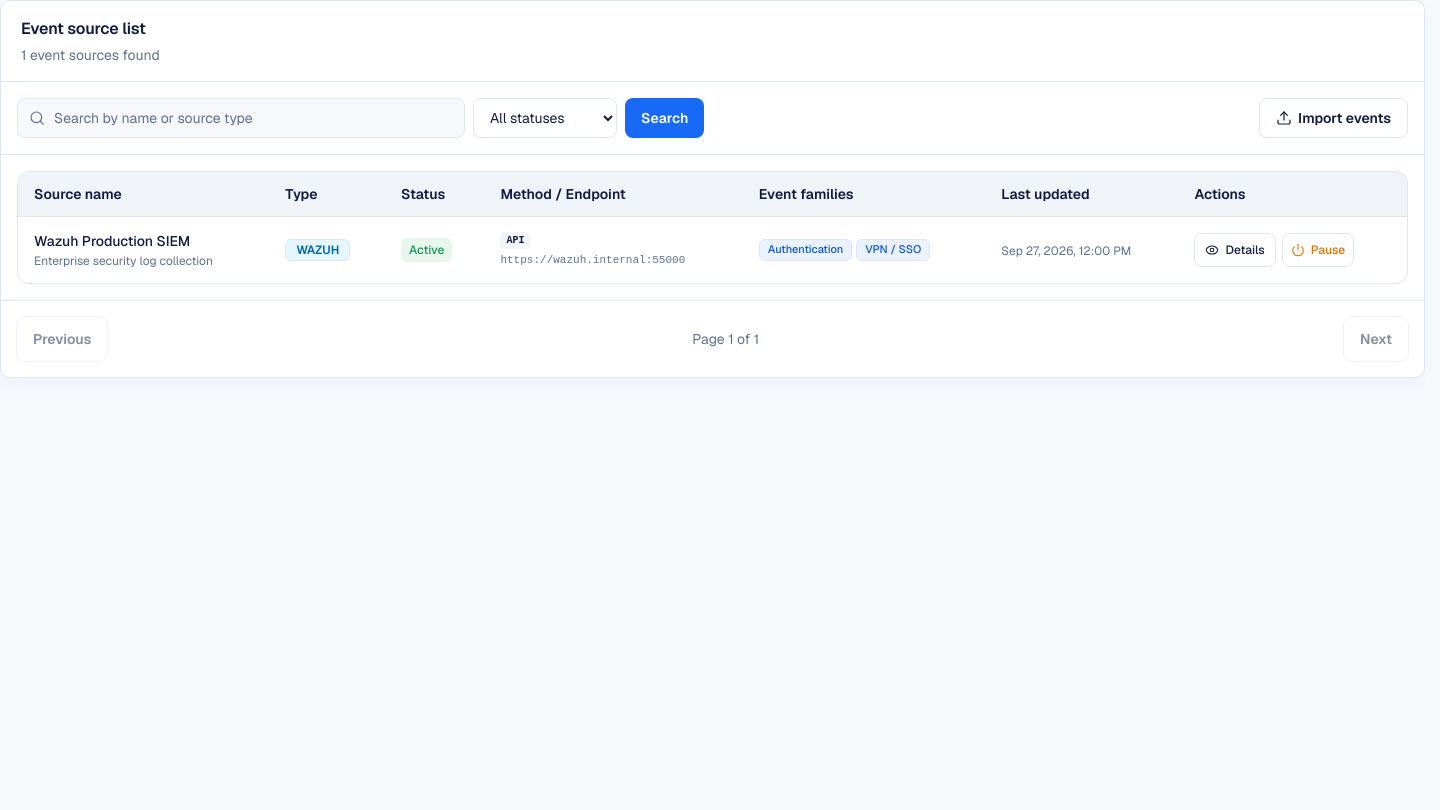
Test: EventSourcesList › opens EventSourceDetailDialog when clicking Details button
Click the button "Details".
click(1235, 250)  # box [1194, 233, 1276, 267]
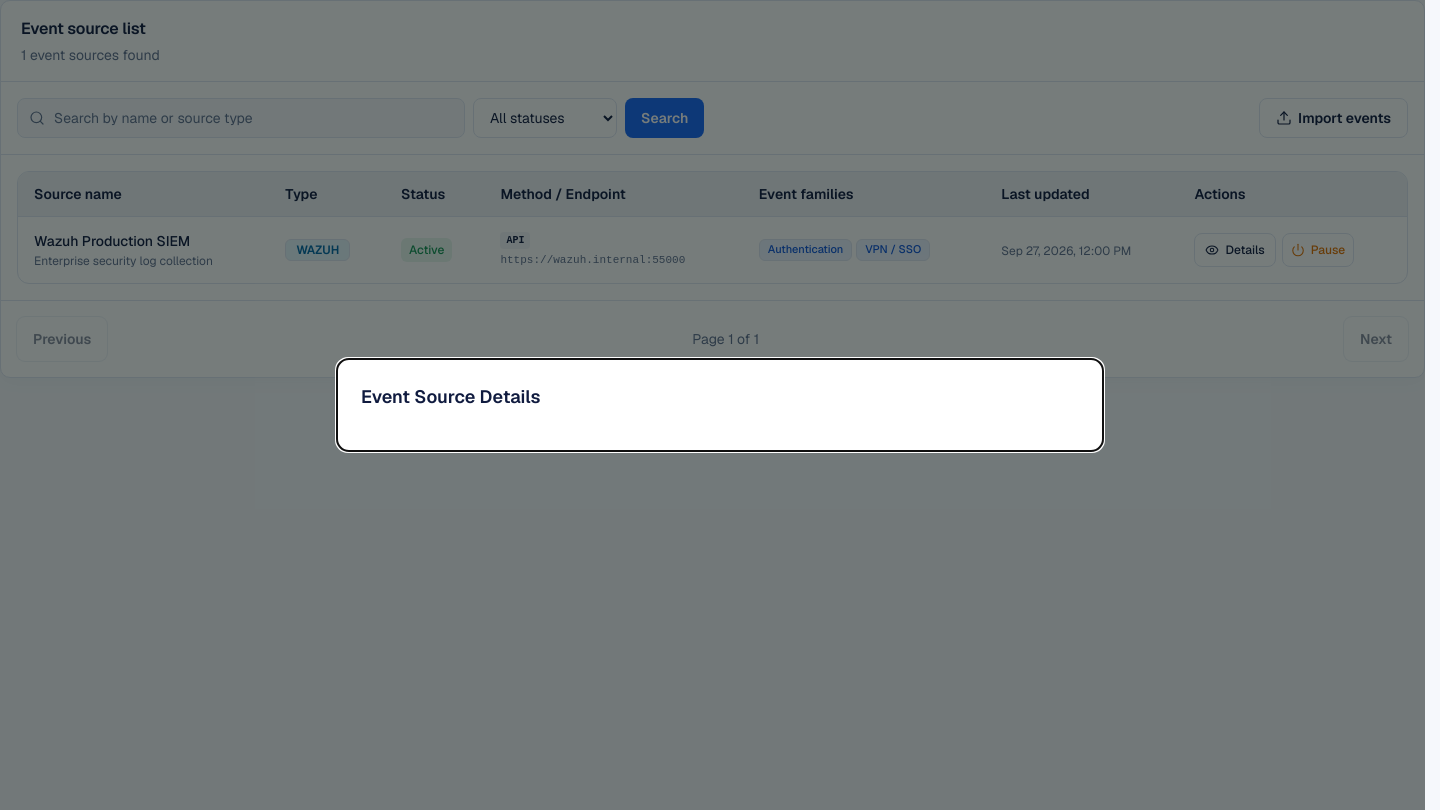
Check: the dialog is shown, box [336, 358, 1104, 452]
